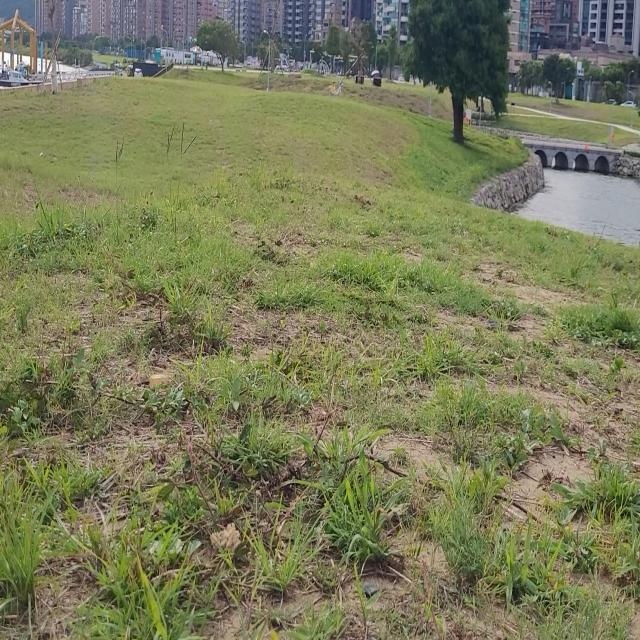grass: (0, 71, 640, 639), (503, 109, 607, 142)
rocks: (471, 152, 544, 211)
